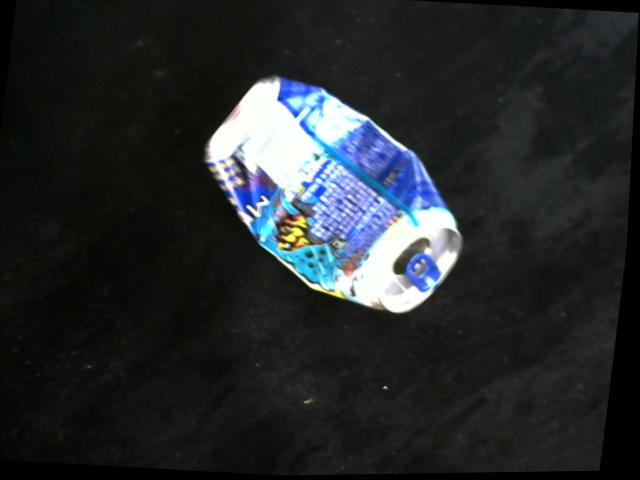can: (207, 77, 463, 311)
